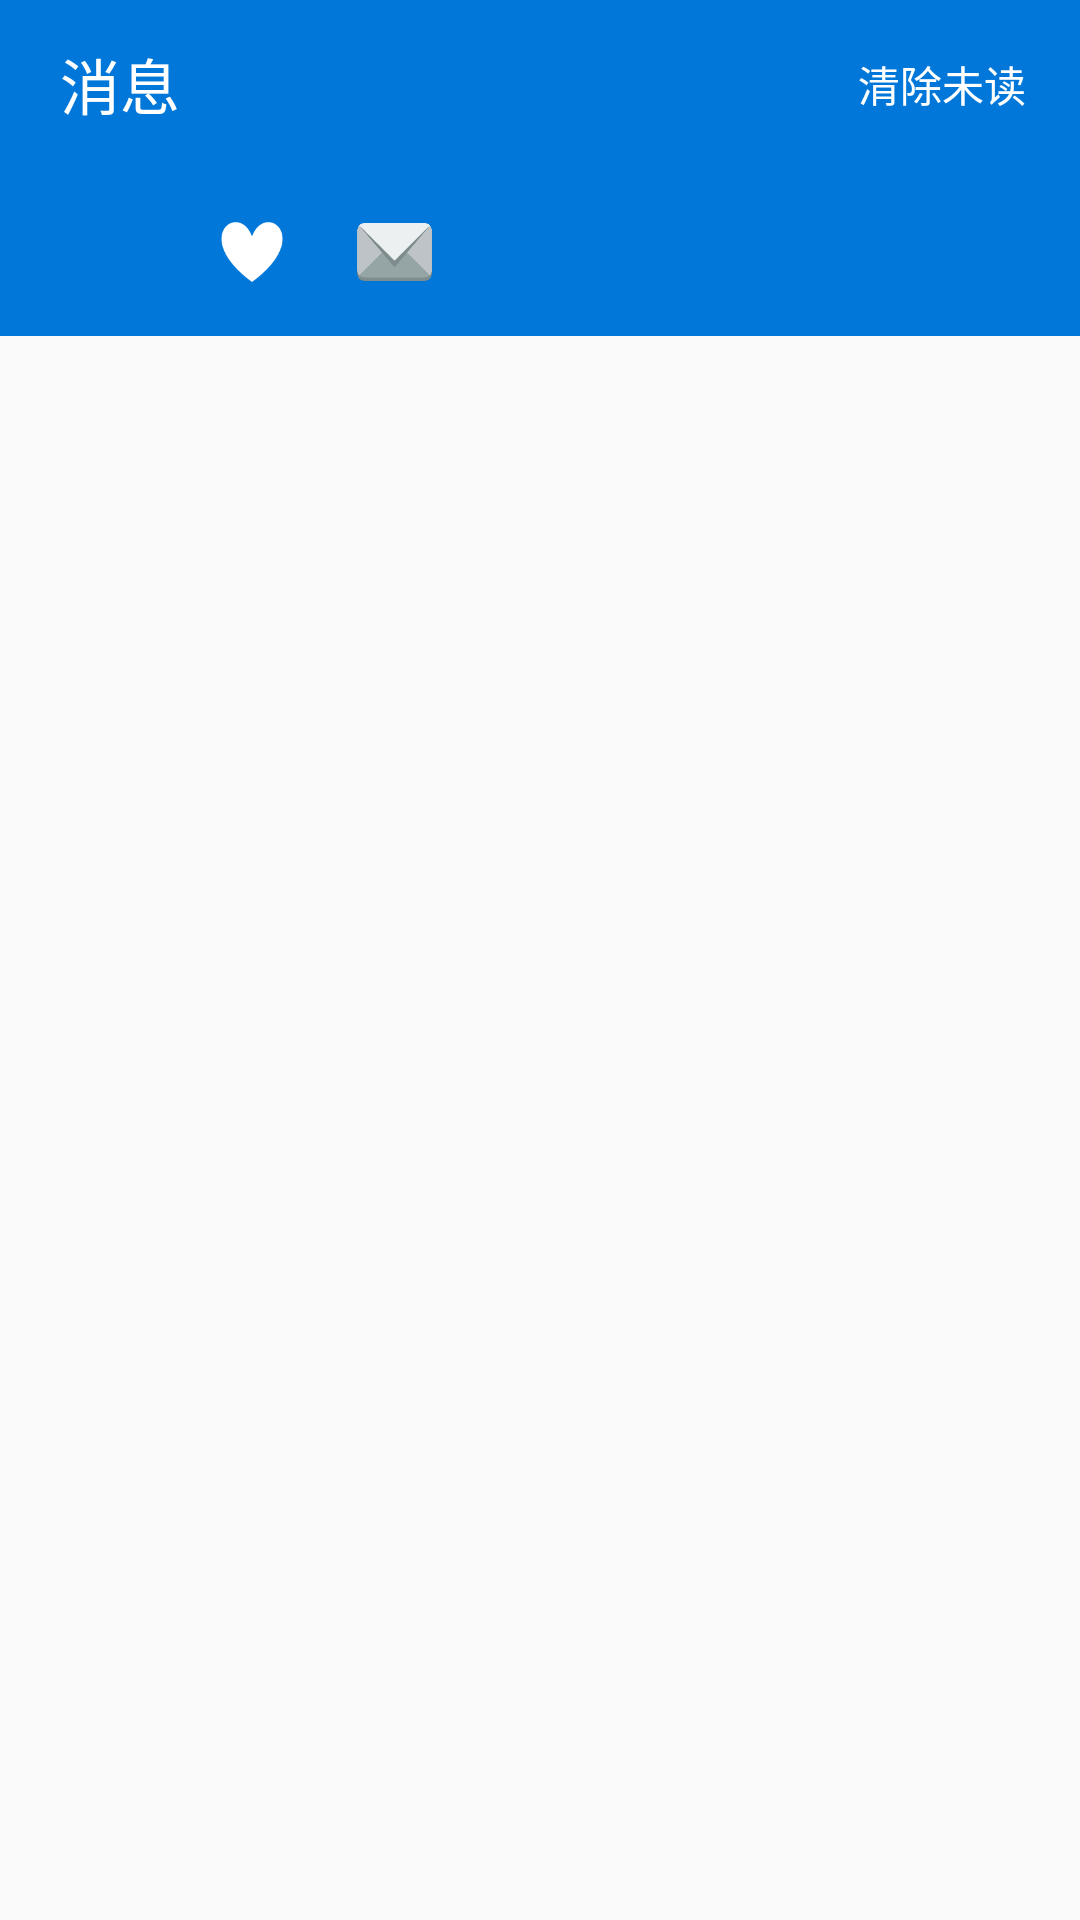

Point at icon controls on the screen. Image size 1080px x 1920px, points as (x,y).
agree: (252,252)
message: (394,252)
